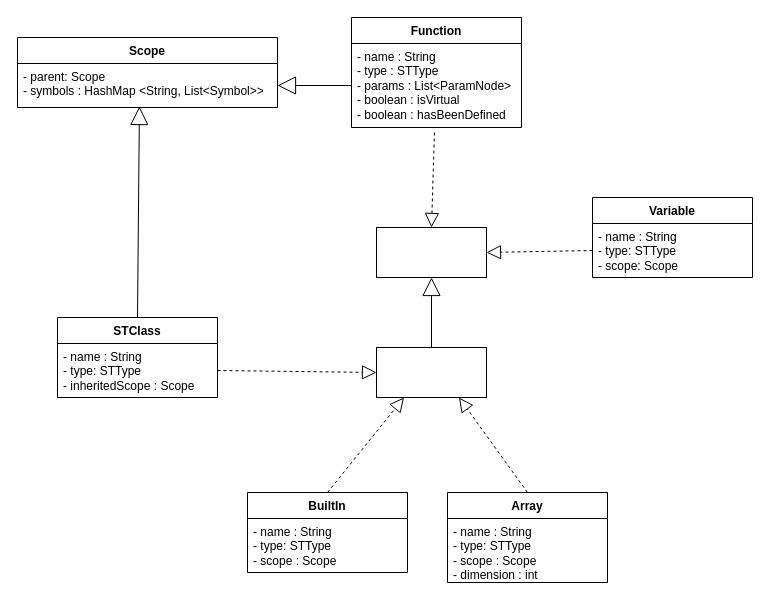
Some shapes in this 770 by 603 pixel diagram are drawn without their labels. The centre of each missing label's shape, as x and y in pixels:
"«interface» STType" goes at [431,372].
"«interface» Symbol" goes at [431,252].
